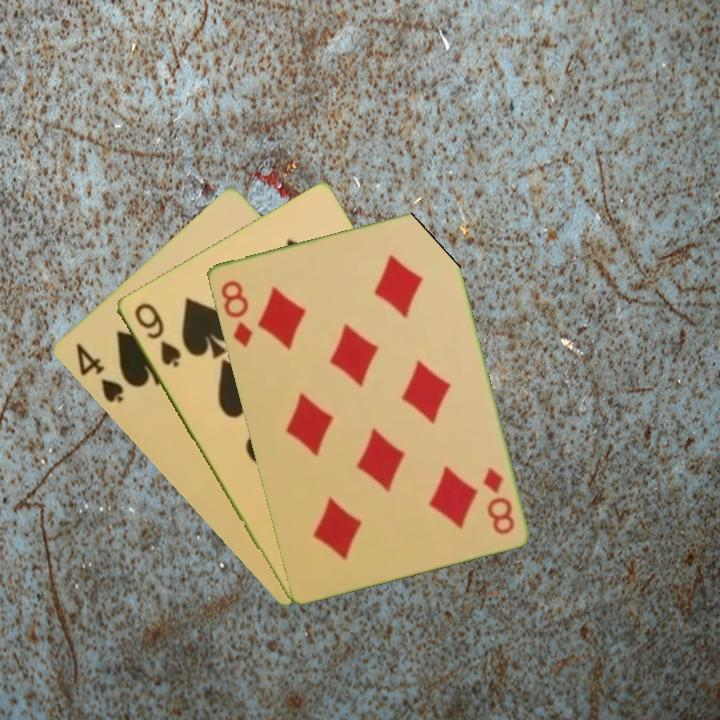4s: (71, 339, 127, 406)
8d: (478, 462, 517, 538), (217, 276, 256, 350)
9s: (130, 299, 184, 371)
